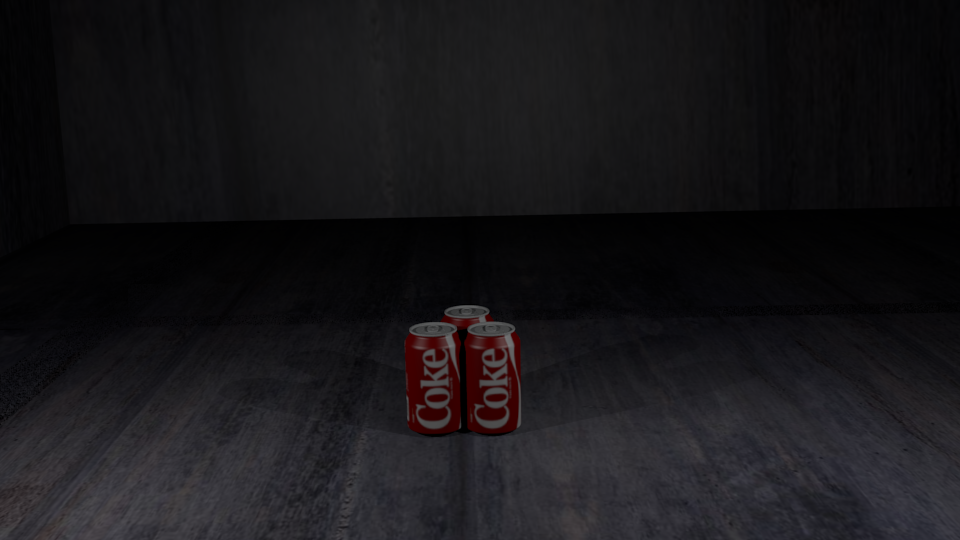cola_can: (405, 322, 462, 431), (463, 322, 520, 430), (440, 306, 493, 408)
